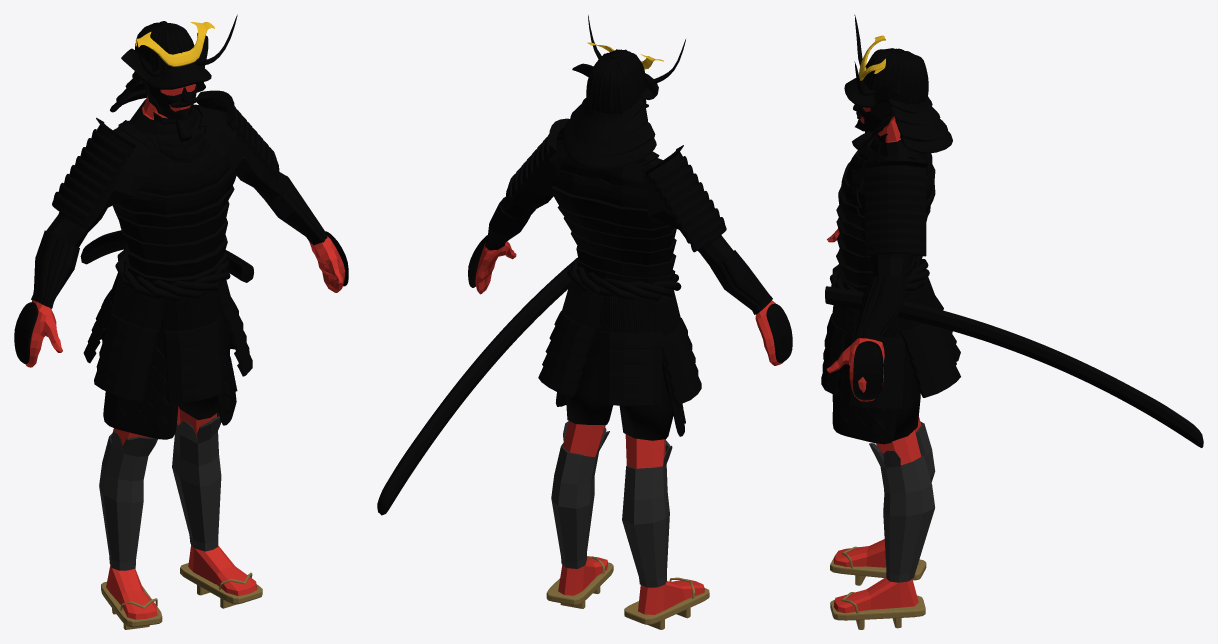
File: FullArmourSamurai.fbx
3 renders of one model, left to right at view 1: azimuth 30°, elevation 25°; view 2: azimuth 150°, elevation 25°; view 3: azimuth 270°, elevation 25°, orthographic. The views are drawn at different scales.
Visible parts, largest first — view 1: Kusaziri, Do, BaseModel, Shirt, RSuneate, LSuneate, RSode, Kabuto, RHaidate, R Oda Gote, Sash, LSode (+11 smaller); view 2: Kusaziri, Do, Kabuto, BaseModel, Saya, RSuneate, LSuneate, RSode, Pants, Shirt, Sash, R Oda Gote (+5 smaller); view 3: Kusaziri, Saya, LSode, Kabuto, LSuneate, BaseModel, Do, L Oda Gote, LHaidate, Shirt, LTekko, LWaraji (+6 smaller).
Part boxes in pixels (box(x1,y1,x2,y2)): Kusaziri: box(83, 272, 252, 402); Do: box(112, 104, 236, 284); BaseModel: box(25, 84, 345, 619); Shirt: box(46, 99, 287, 247); RSuneate: box(99, 431, 157, 570); LSuneate: box(172, 412, 221, 551); RSode: box(52, 117, 135, 228); Kabuto: box(110, 21, 211, 112); RHaidate: box(103, 299, 185, 439); R Oda Gote: box(31, 230, 79, 309); Sash: box(115, 248, 230, 301); LSode: box(196, 90, 279, 181); Kusaziri: box(538, 280, 701, 405); Do: box(551, 151, 676, 284); Kabuto: box(563, 49, 658, 168); BaseModel: box(475, 241, 783, 614); Saya: box(377, 260, 574, 515); RSuneate: box(622, 440, 672, 587); LSuneate: box(551, 421, 609, 568); RSode: box(645, 145, 726, 252); Pants: box(566, 295, 673, 440); Shirt: box(499, 140, 734, 266); Sash: box(567, 258, 681, 300); R Oda Gote: box(710, 250, 772, 314); Kusaziri: box(821, 276, 960, 408); Saya: box(825, 286, 1203, 447); LSode: box(863, 160, 928, 256); Kabuto: box(844, 48, 952, 153); LSuneate: box(869, 443, 935, 582); BaseModel: box(826, 107, 921, 613); Do: box(836, 153, 935, 291); L Oda Gote: box(854, 276, 907, 342); LHaidate: box(832, 341, 896, 444); Shirt: box(858, 133, 924, 278); LTekko: box(853, 341, 883, 400); LWaraji: box(830, 592, 925, 629).
Size of the model in its own units: 169 by 297 by 182.
